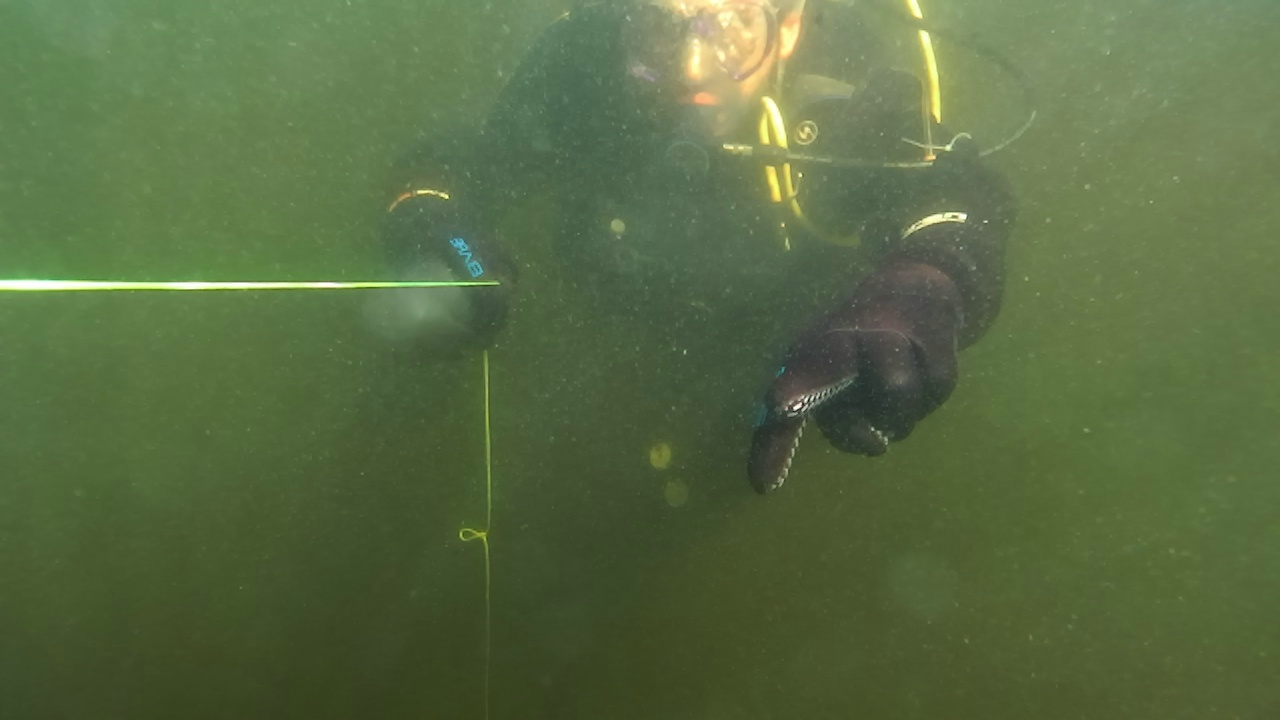Diver: (370, 2, 1034, 474)
Hand: (724, 244, 988, 506), (364, 164, 526, 372)
